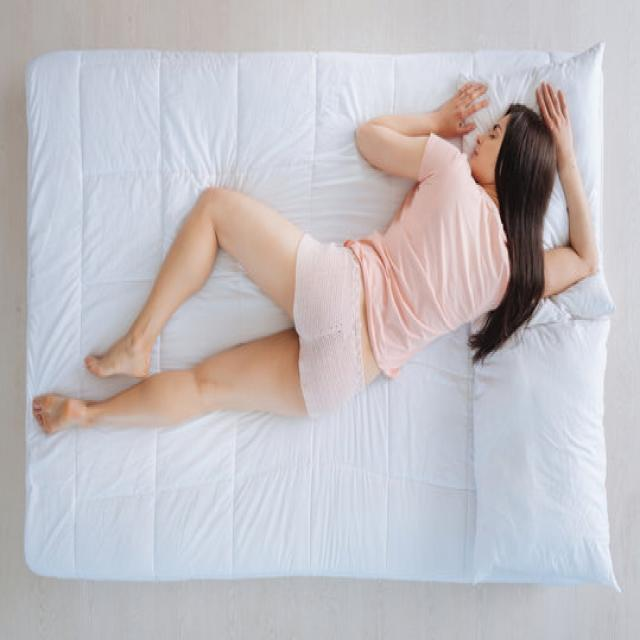people: (28, 66, 606, 444)
